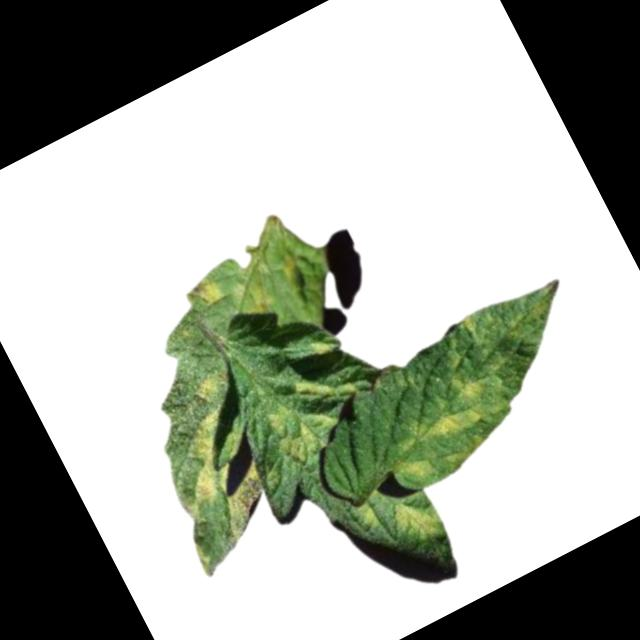Leaf_Mold: (251, 356, 381, 472), (403, 365, 505, 455), (207, 463, 282, 541), (387, 490, 449, 551), (177, 404, 237, 463), (180, 456, 229, 504), (393, 445, 440, 493), (182, 271, 231, 317), (183, 367, 231, 409)
